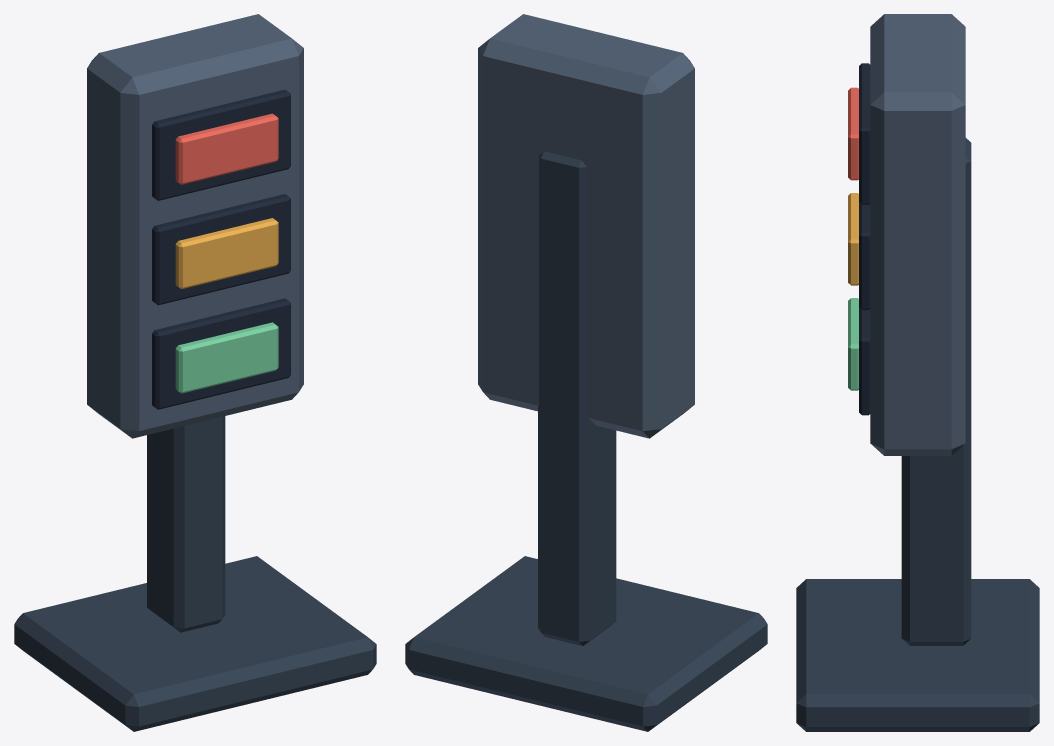
The model's file is 12_Status_Pylon.glb.
The picture shows the model from 3 angles, left to right: view 1: azimuth 30°, elevation 25°; view 2: azimuth 150°, elevation 25°; view 3: azimuth 270°, elevation 25°; orthographic projection.
Visible parts, largest first — view 1: 12_Status_Pylon__Body; view 2: 12_Status_Pylon__Body; view 3: 12_Status_Pylon__Body.
Part boxes in pixels (x1=…): 12_Status_Pylon__Body: x1=14, y1=14, x2=376, y2=731; 12_Status_Pylon__Body: x1=405, y1=14, x2=767, y2=731; 12_Status_Pylon__Body: x1=796, y1=14, x2=1039, y2=731.
Size of the model in its own units: 1.26 by 2.95 by 1.05.
1 material, 1 textured.
